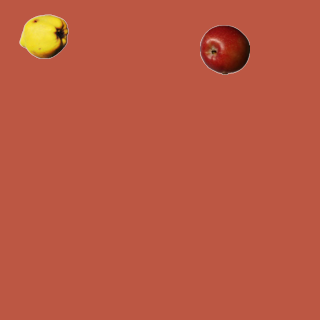Apple Braeburn: (199, 24, 249, 74)
Quince: (18, 11, 68, 61)
